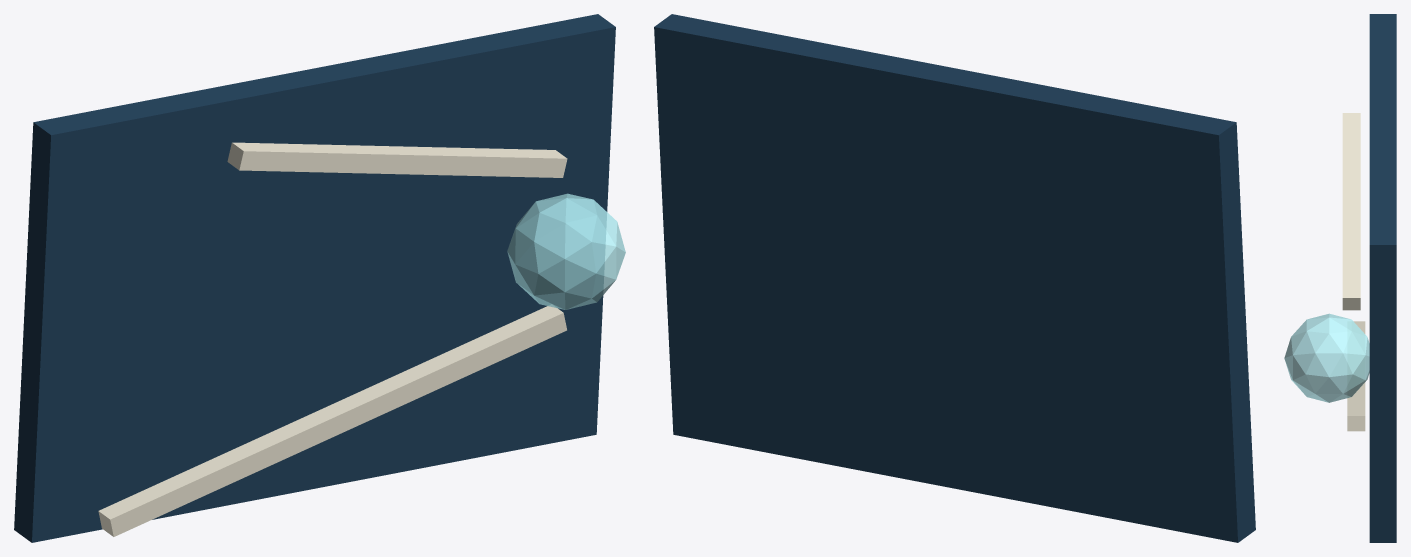
The model's file is 02_world_prop_polish.glb.
The picture shows the model from 3 angles, left to right: view 1: azimuth 30°, elevation 25°; view 2: azimuth 150°, elevation 25°; view 3: azimuth 270°, elevation 25°; orthographic projection. The views are drawn at different scales.
Visible parts, largest first — view 1: object_overlay_plate, edge_wear_a, glow_socket, edge_wear_b; view 2: object_overlay_plate; view 3: object_overlay_plate, glow_socket, edge_wear_b, edge_wear_a.
Part boxes in pixels (x1,y1,x2,y2): object_overlay_plate: (14,14,615,542); edge_wear_a: (98,305,566,536); glow_socket: (507,193,625,309); edge_wear_b: (227,142,567,177); object_overlay_plate: (654,14,1255,542); object_overlay_plate: (1369,14,1396,542); glow_socket: (1284,313,1369,402); edge_wear_b: (1342,113,1360,310); edge_wear_a: (1347,321,1365,431).
Bounding box in the file's own units: 1.14 × 0.804 × 0.25.
